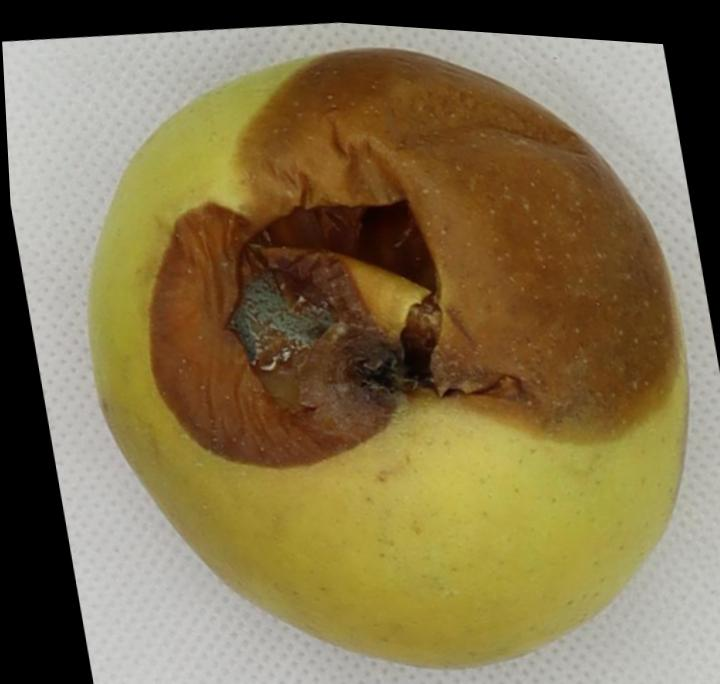apple: (90, 51, 686, 668)
rot_mold_decay: (148, 51, 678, 466)
